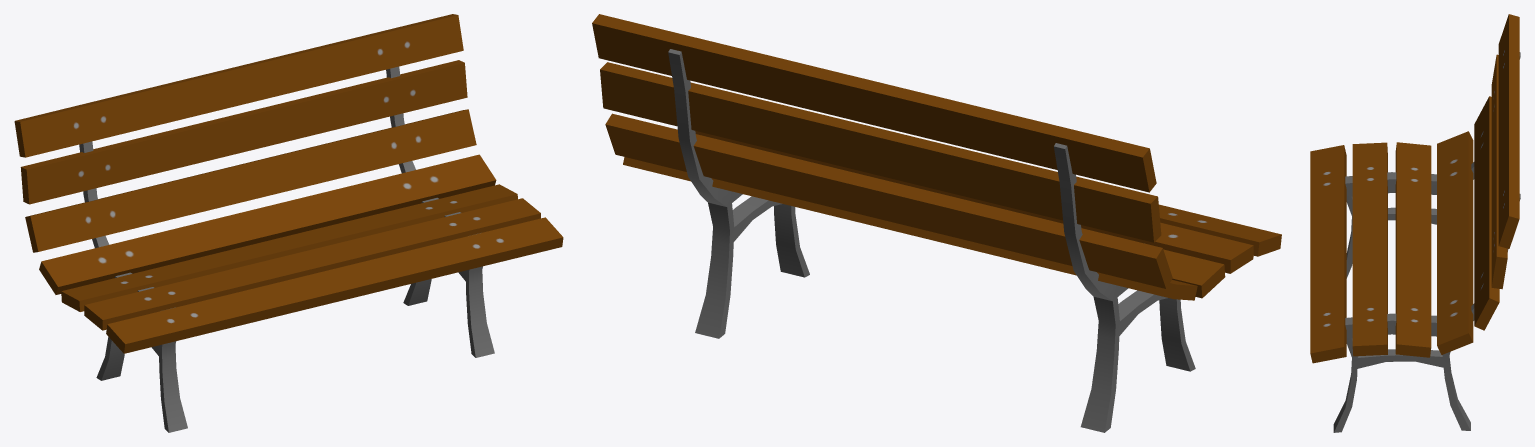
The model's file is Banco.fbx.
The picture shows the model from 3 angles, left to right: view 1: azimuth 30°, elevation 25°; view 2: azimuth 150°, elevation 25°; view 3: azimuth 270°, elevation 25°; orthographic projection. The views are drawn at different scales.
Parts seen in each view (by area): view 1: Cube, Cube.001; view 2: Cube, Cube.001; view 3: Cube, Cube.001.
Boxes of the visible parts, x1,y1,x2,y2 form: Cube: [14, 14, 563, 353]; Cube.001: [79, 66, 494, 432]; Cube: [592, 14, 1281, 300]; Cube.001: [668, 49, 1195, 432]; Cube: [1310, 14, 1519, 363]; Cube.001: [1333, 52, 1520, 432].
Size of the model in its own units: 286 by 160 by 126.
